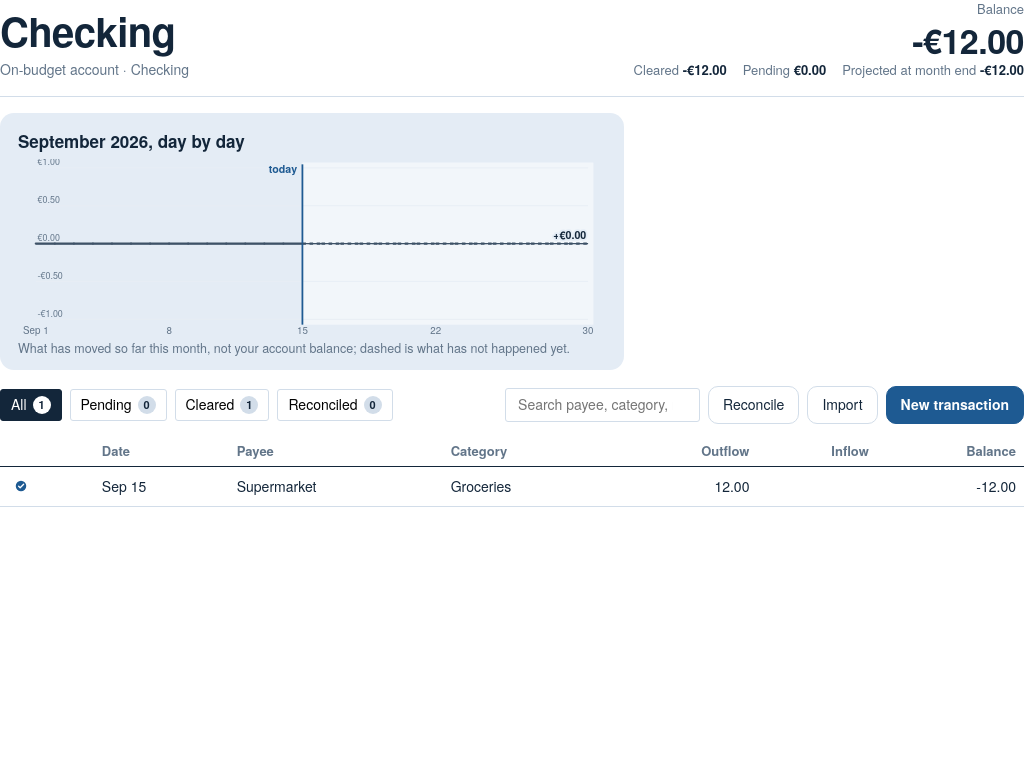
it: AccountRegisterScreen (#54, #333) › the timeline and 'To do' list (#337) › folds the timeline and 'To do' list away entirely while a side sheet is open
This screenshot has width=1024, height=768.
Check: the button "Supermarket" is shown, box left=237, top=476, right=435, bottom=497
Check: the element with class "time" is shown, box left=0, top=113, right=624, bottom=370
Click the button "New transaction" at (955, 405), box left=886, top=386, right=1023, bottom=424
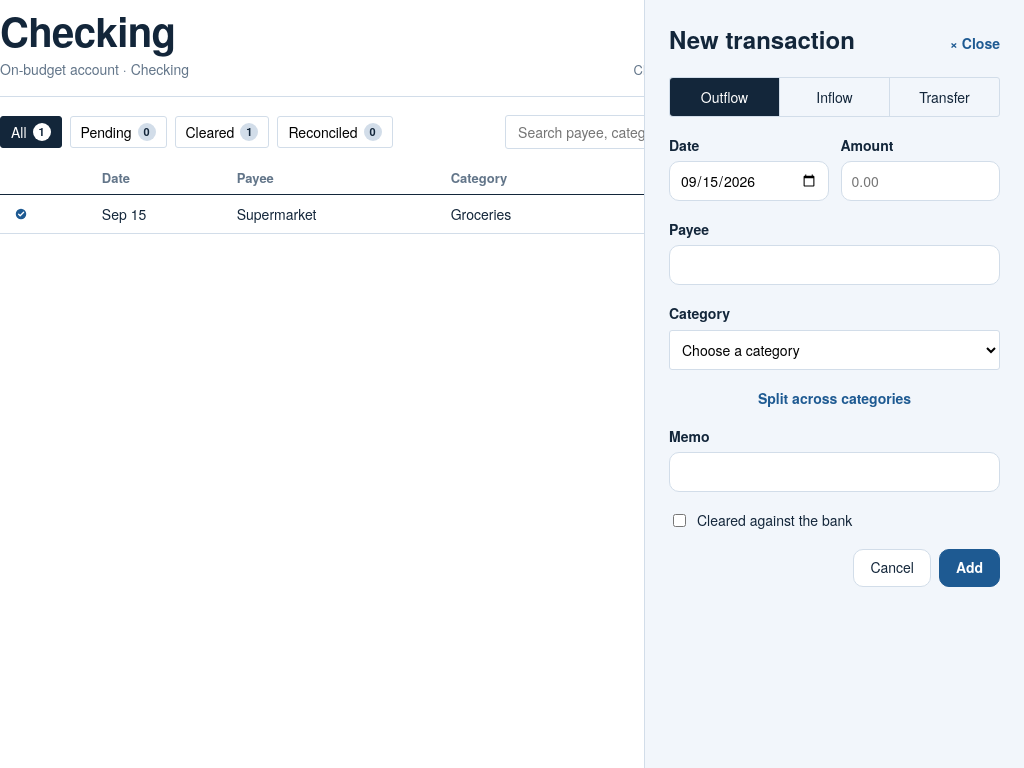
Check: the element with class "time" is gone
